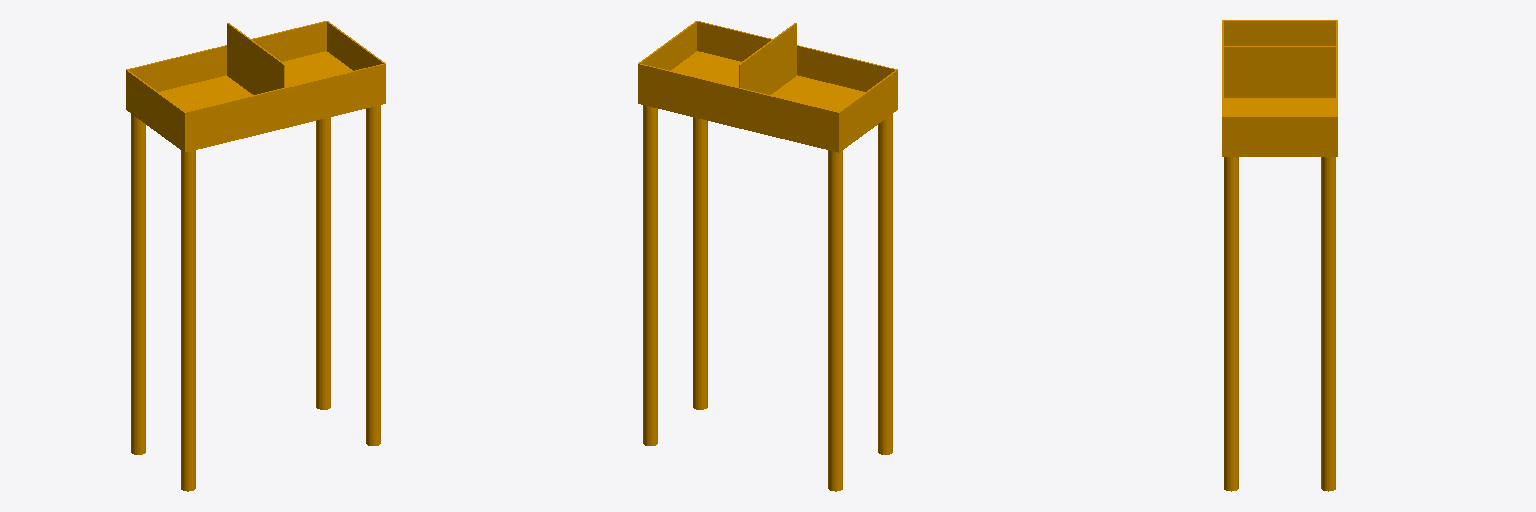
URDF robot description (bbt_box):
<?xml version="1.0" ?>
<!-- =================================================================================== -->
<!-- |    This document was autogenerated by xacro from [local-path]/ws_arm/src/arm-sim/box_blocks_experiment/models/bbt_box.urdf | -->
<!-- |    EDITING THIS FILE BY HAND IS NOT RECOMMENDED                                 | -->
<!-- =================================================================================== -->
<robot name="bbt_box">
  <link name="box">
    <inertial>
      <mass value="50"/>
      <origin rpy="0 0 0" xyz="0 0 0"/>
      <inertia ixx="0" ixy="0" ixz="0" iyy="0" iyz="0" izz="0"/>
    </inertial>
    <collision name="partition">
      <origin rpy="0 0 0" xyz="0 0 1.091"/>
      <geometry>
        <box size="0.005 0.3 0.152"/>
      </geometry>
    </collision>
    <collision name="left_side_wall">
      <origin rpy="0 0 0" xyz="0.3025 0 1.0575"/>
      <geometry>
        <box size="0.005 0.31 0.085"/>
      </geometry>
    </collision>
    <collision name="right_side_wall">
      <origin rpy="0 0 0" xyz="-0.3025 0 1.0575"/>
      <geometry>
        <box size="0.005 0.31 0.085"/>
      </geometry>
    </collision>
    <collision name="front_wall">
      <origin rpy="0 0 0" xyz="0 -0.1525 1.0575"/>
      <geometry>
        <box size="0.6 0.005 0.085"/>
      </geometry>
    </collision>
    <collision name="back_wall">
      <origin rpy="0 0 0" xyz="0 0.1525 1.0575"/>
      <geometry>
        <box size="0.6 0.005 0.085"/>
      </geometry>
    </collision>
    <collision name="table__surface">
      <origin rpy="0 0 0" xyz="0 0 1"/>
      <geometry>
        <box size="0.61 0.31 0.03"/>
      </geometry>
      <surface>
        <friction>
          <ode>
            <mu>0.4</mu>
            <mu2>0.4</mu2>
          </ode>
        </friction>
      </surface>
    </collision>
    <collision name="table__front_left_leg">
      <origin rpy="0 0 0" xyz="0.28 0.13 0.5"/>
      <geometry>
        <cylinder length="1.0" radius="0.02"/>
      </geometry>
    </collision>
    <collision name="table__front_right_leg">
      <origin rpy="0 0 0" xyz="0.28 -0.13  0.5"/>
      <geometry>
        <cylinder length="1.0" radius="0.02"/>
      </geometry>
    </collision>
    <collision name="table__back_right_leg">
      <origin rpy="0 0 0" xyz="-0.28 -0.13  0.5"/>
      <geometry>
        <cylinder length="1.0" radius="0.02"/>
      </geometry>
    </collision>
    <collision name="table__back_left_leg">
      <origin rpy="0 0 0" xyz="-0.28  0.13  0.5"/>
      <geometry>
        <cylinder length="1.0" radius="0.02"/>
      </geometry>
    </collision>
    <visual name="partition">
      <origin rpy="0 0 0" xyz="0 0 1.091"/>
      <geometry>
        <box size="0.005 0.3 0.152"/>
      </geometry>
    </visual>
    <visual name="table__visual1">
      <origin rpy="0 0 0" xyz="0 0 1"/>
      <geometry>
        <box size="0.61 0.31 0.03"/>
      </geometry>
    </visual>
    <visual name="left_side_wall">
      <origin rpy="0 0 0" xyz="0.3025 0 1.0575"/>
      <geometry>
        <box size="0.005 0.31 0.085"/>
      </geometry>
    </visual>
    <visual name="right_side_wall">
      <origin rpy="0 0 0" xyz="-0.3025 0 1.0575"/>
      <geometry>
        <box size="0.005 0.31 0.085"/>
      </geometry>
    </visual>
    <visual name="front_wall">
      <origin rpy="0 0 0" xyz="0 -0.1525 1.0575"/>
      <geometry>
        <box size="0.6 0.005 0.085"/>
      </geometry>
    </visual>
    <visual name="back_wall">
      <origin rpy="0 0 0" xyz="0 0.1525 1.0575"/>
      <geometry>
        <box size="0.6 0.005 0.085"/>
      </geometry>
    </visual>
    <visual name="table__front_left_leg">
      <origin rpy="0 0 0" xyz="0.28 0.13 0.5"/>
      <geometry>
        <cylinder length="1.0" radius="0.02"/>
      </geometry>
    </visual>
    <visual name="table__front_right_leg">
      <origin rpy="0 0 0" xyz="0.28 -0.13  0.5"/>
      <geometry>
        <cylinder length="1.0" radius="0.02"/>
      </geometry>
    </visual>
    <visual name="table__back_right_leg">
      <origin rpy="0 0 0" xyz="-0.28 -0.13  0.5"/>
      <geometry>
        <cylinder length="1.0" radius="0.02"/>
      </geometry>
    </visual>
    <visual name="table__back_left_leg">
      <origin rpy="0 0 0" xyz="-0.28  0.13  0.5"/>
      <geometry>
        <cylinder length="1.0" radius="0.02"/>
      </geometry>
    </visual>
  </link>
  <link name="world"/>
  <joint name="world_joint" type="fixed">
    <parent link="world"/>
    <child link="box"/>
    <origin rpy="0.0 0.0 0.0" xyz="0.0 0.0 0.0"/>
  </joint>
</robot>

--- Facts derived from the render (not from the file) ---
The picture shows the robot from 3 angles, left to right: view 1: azimuth 30°, elevation 25°; view 2: azimuth 150°, elevation 25°; view 3: azimuth 270°, elevation 25°; orthographic projection.
Model bbt_box with 2 links and 1 joints (1 fixed), rooted at world, posed every joint at zero.
Links seen in each view (by area): view 1: box; view 2: box; view 3: box.
Boxes of the visible links, bbox=[...] form: box: bbox=[126, 21, 385, 491]; box: bbox=[638, 21, 897, 491]; box: bbox=[1222, 20, 1337, 491].
Bounding box of the posed robot: 0.61 × 0.31 × 1.17 m (x, y, z).
Geometry: primitives only (box / cylinder / sphere), no mesh files.